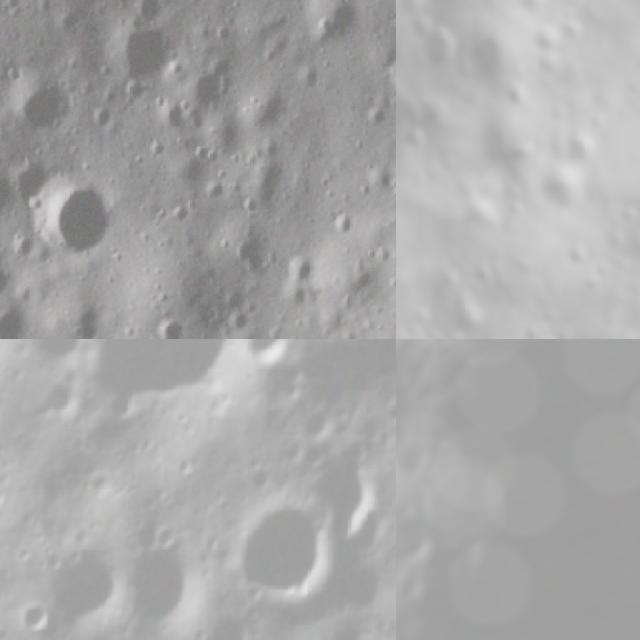crater: (54, 339, 274, 438), (224, 489, 352, 622), (33, 539, 139, 640), (22, 162, 117, 268), (114, 538, 212, 640), (291, 447, 392, 538), (98, 17, 178, 88), (6, 65, 84, 137), (533, 150, 597, 218), (411, 15, 475, 76), (187, 55, 243, 115), (305, 0, 365, 53), (54, 294, 120, 339), (141, 85, 196, 139), (558, 119, 609, 172), (8, 591, 63, 640), (40, 376, 90, 428), (232, 339, 305, 374), (24, 339, 98, 373), (226, 225, 276, 271), (396, 508, 437, 562), (144, 510, 188, 560), (279, 248, 323, 290), (396, 432, 433, 475), (0, 289, 31, 339), (0, 171, 24, 228), (588, 252, 624, 288), (145, 311, 188, 339), (560, 238, 592, 272), (380, 44, 396, 104), (396, 0, 436, 23), (380, 390, 396, 427), (530, 327, 570, 339)
